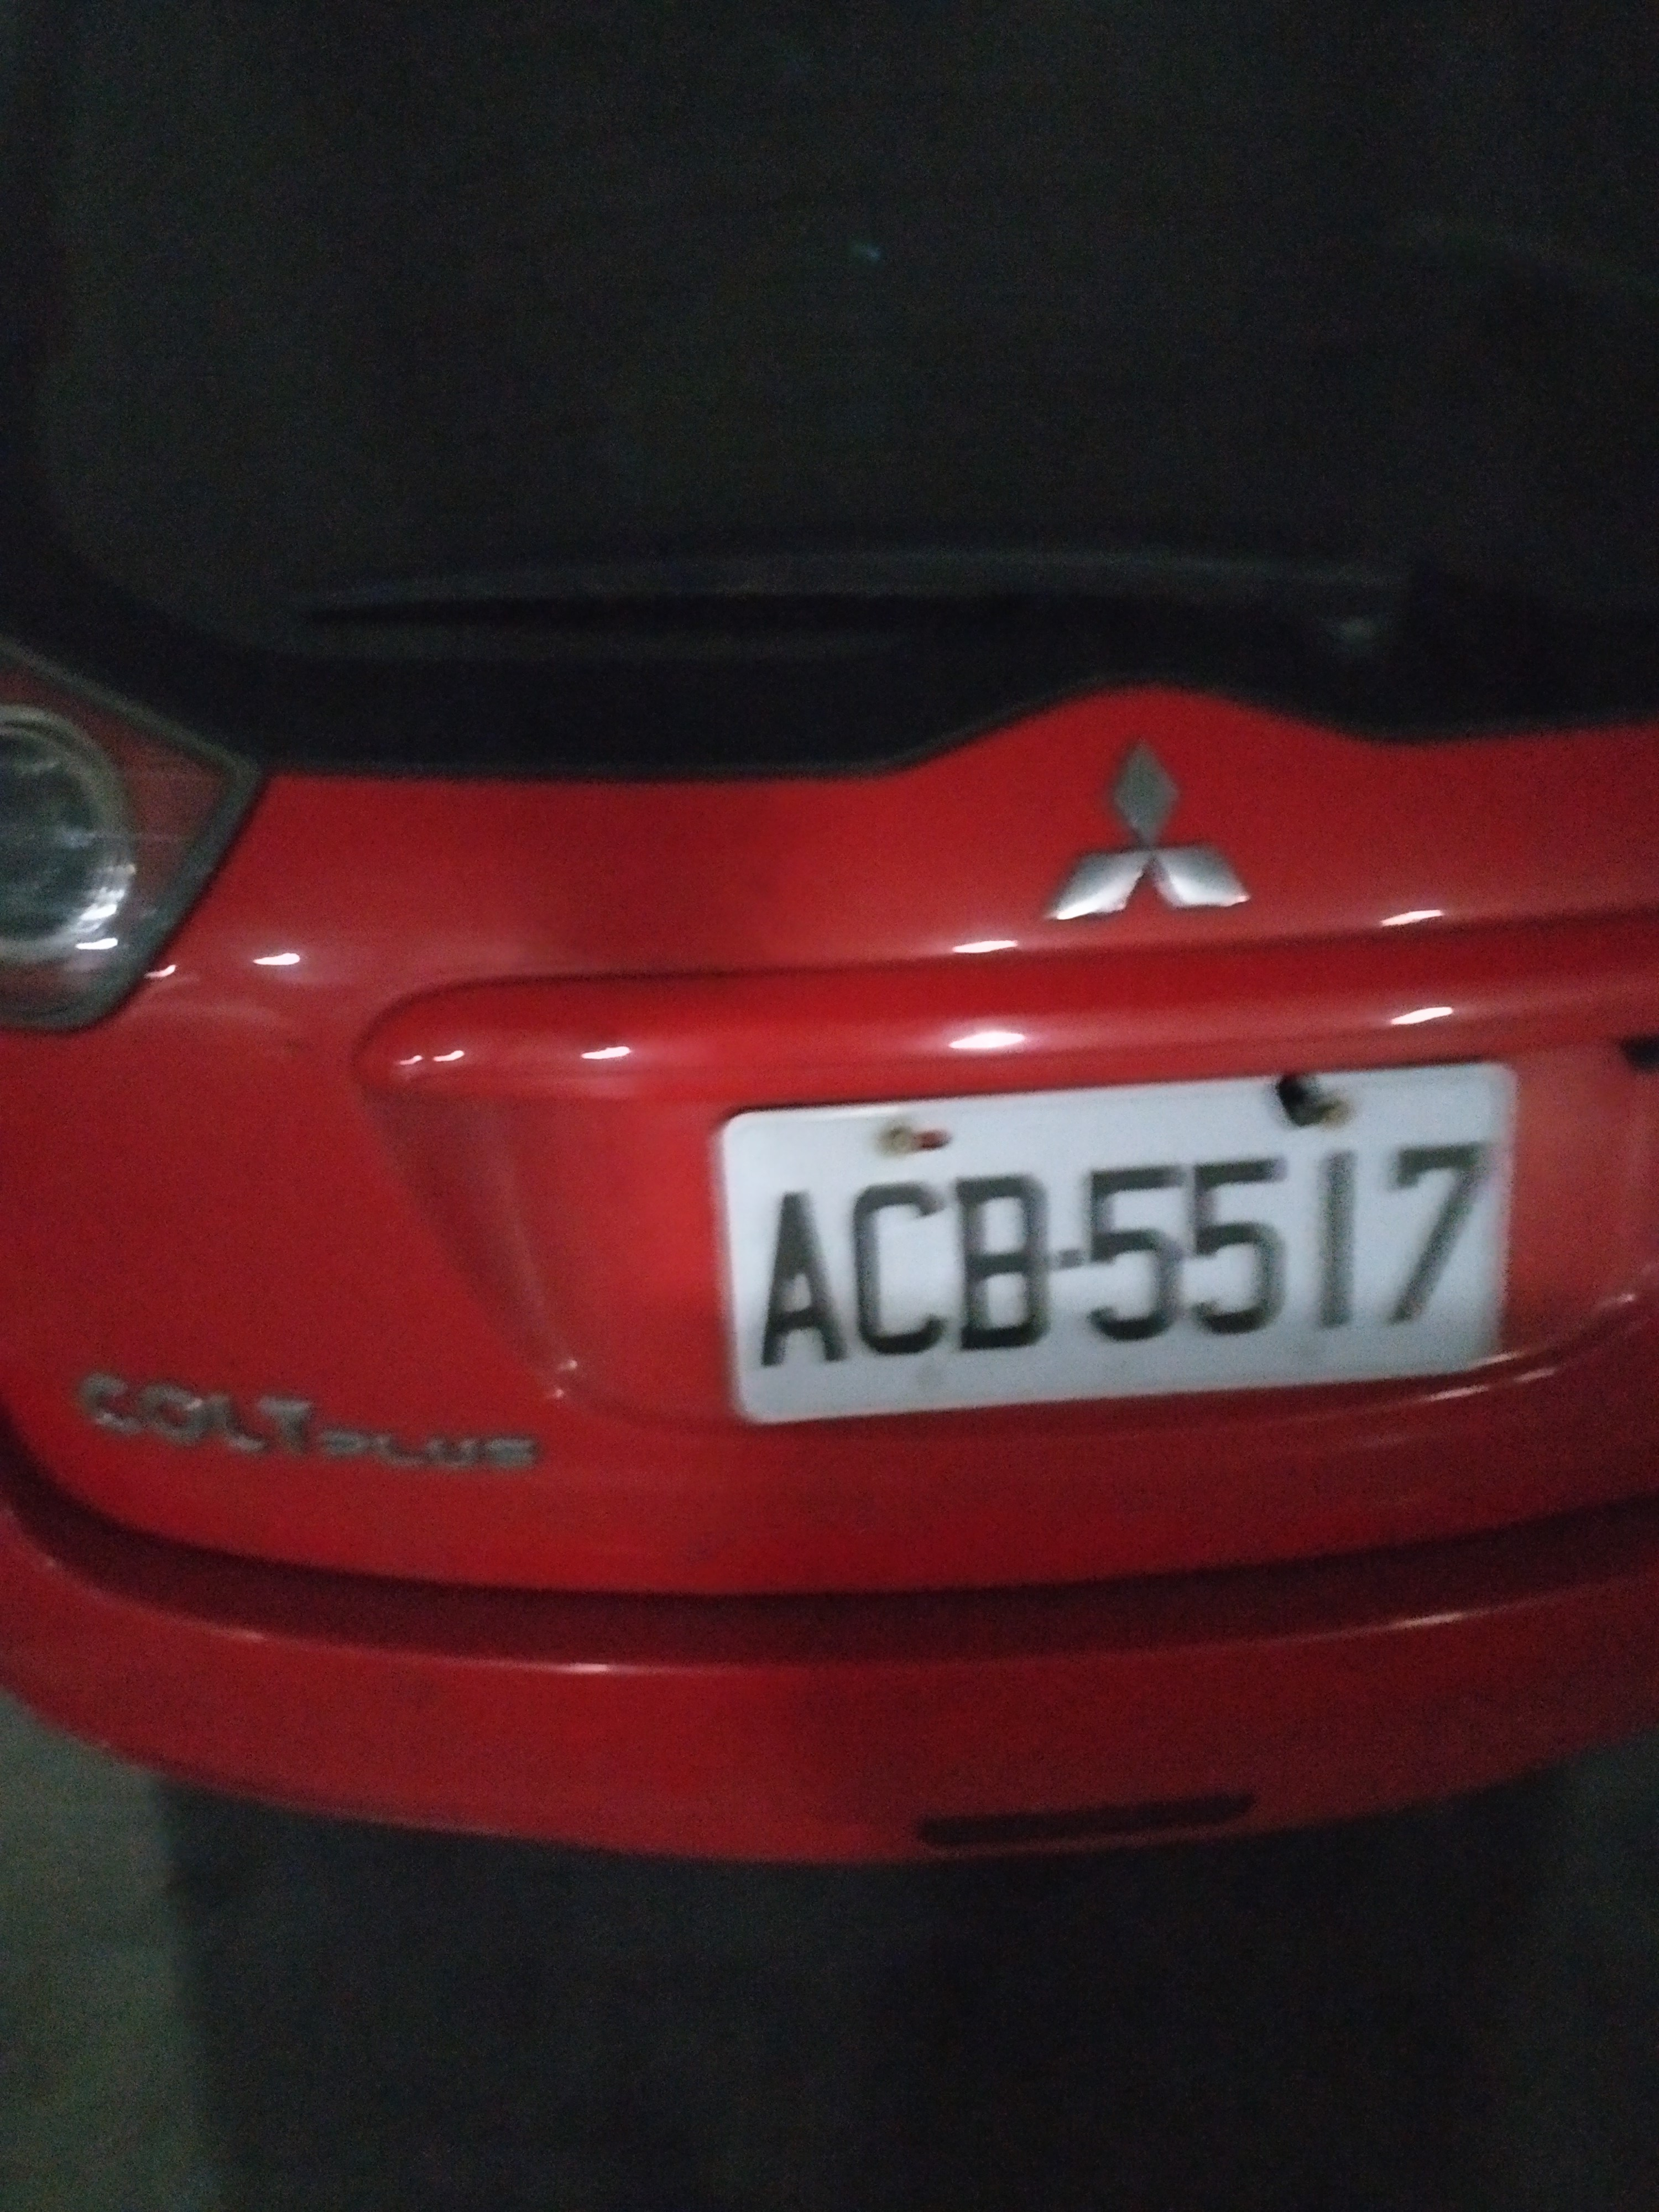car: (5, 64, 1659, 1890)
car_card: (713, 1104, 1513, 1357)
